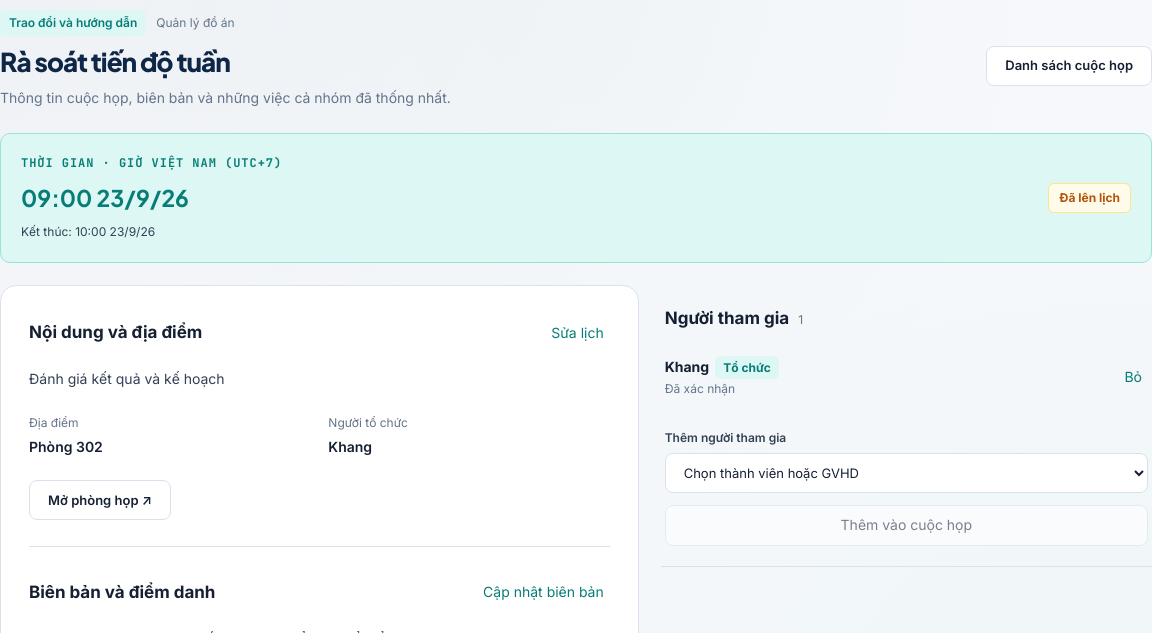
Test: Meetings end-user workflow › protects unsaved content on route changes and allows explicit discard
The width and height of the screenshot is (1152, 633).
Step 1. Click the button "Cập nhật biên bản" → {"x": 543, "y": 592}, box [477,573,610,612]
(page scrolled)
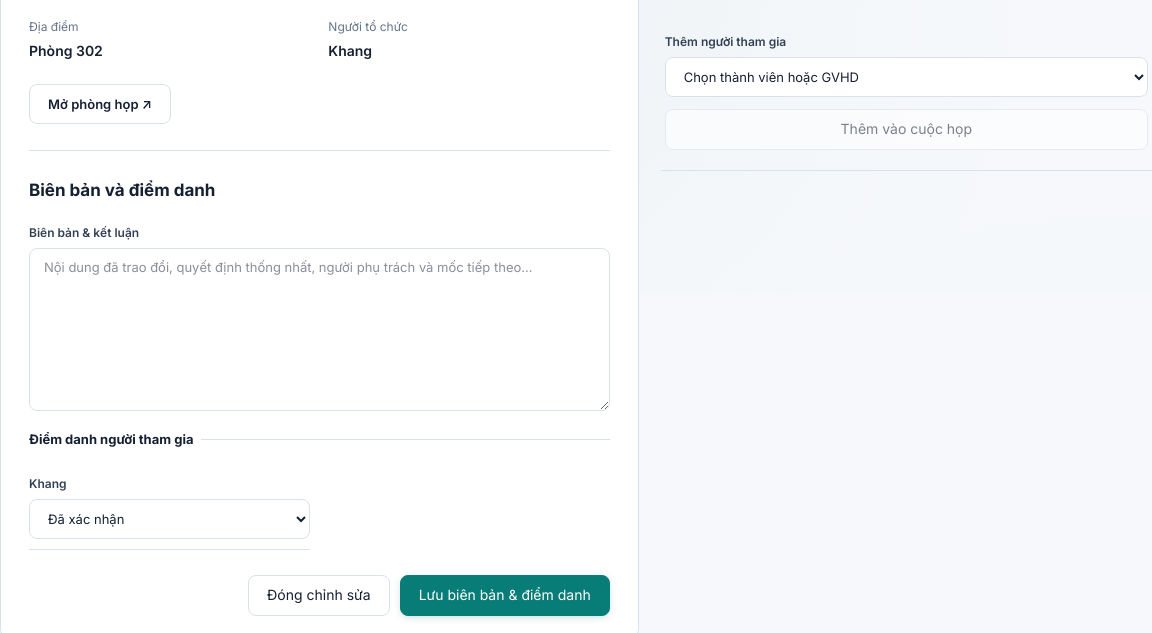
Step 2. Replace the text in the text box labelled "Biên bản & kết luận" with "Chưa lưu" → {"x": 319, "y": 330}, box [29,248,610,411]
(page scrolled)
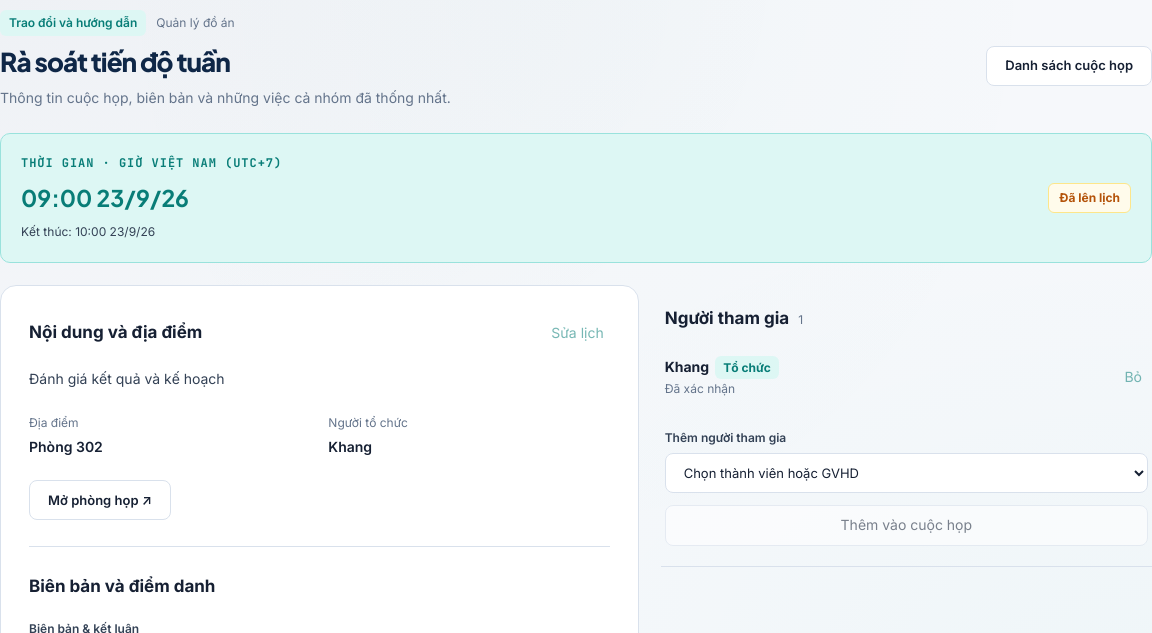
Step 3. Click the link "Danh sách cuộc họp" → {"x": 1069, "y": 66}, box [986,46,1151,86]
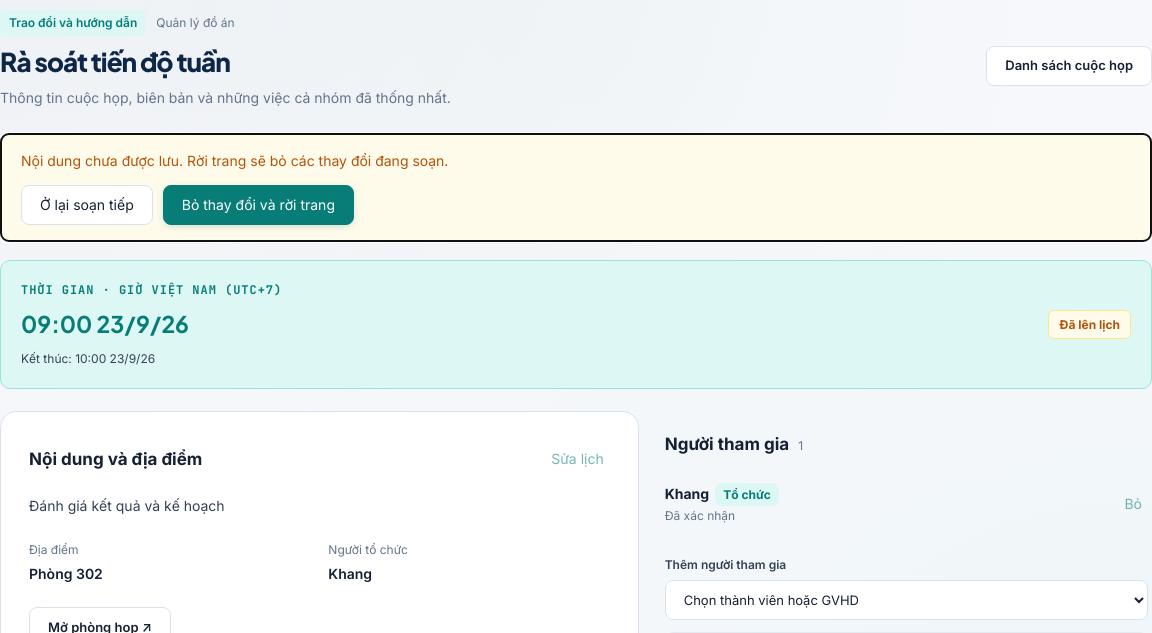
Now the text "Nội dung chưa được lưu" is shown, box [21,152,448,169]
Step 4. Click the button "Ở lại soạn tiếp" → {"x": 87, "y": 205}, box [21,185,153,225]
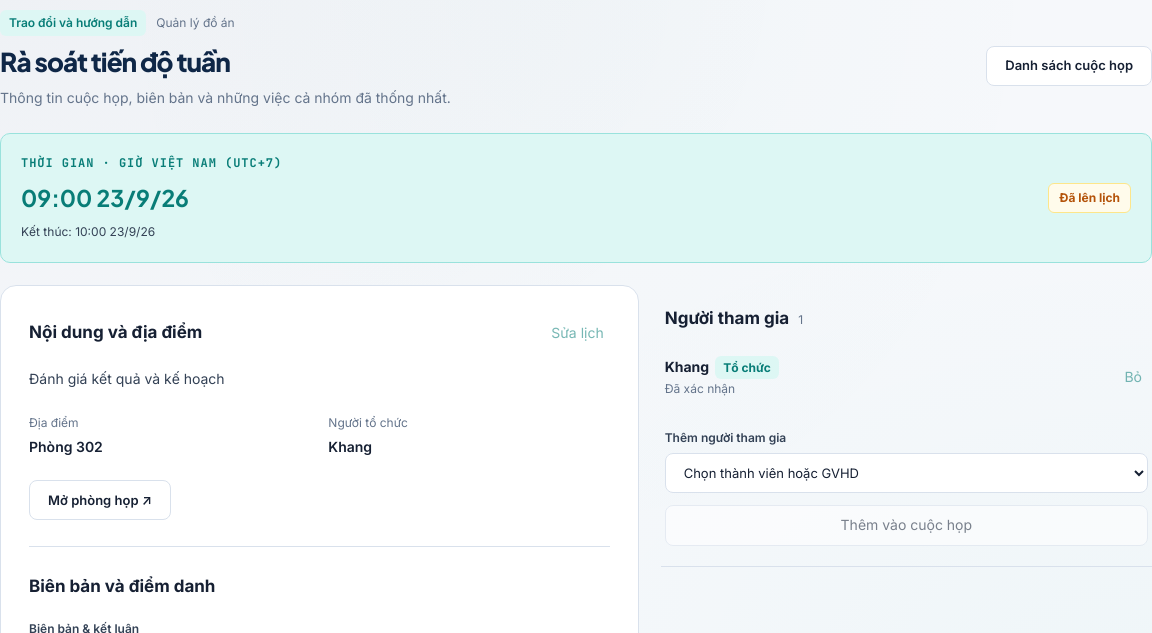
Step 5. Click the link "Danh sách cuộc họp" → {"x": 1069, "y": 66}, box [986,46,1151,86]
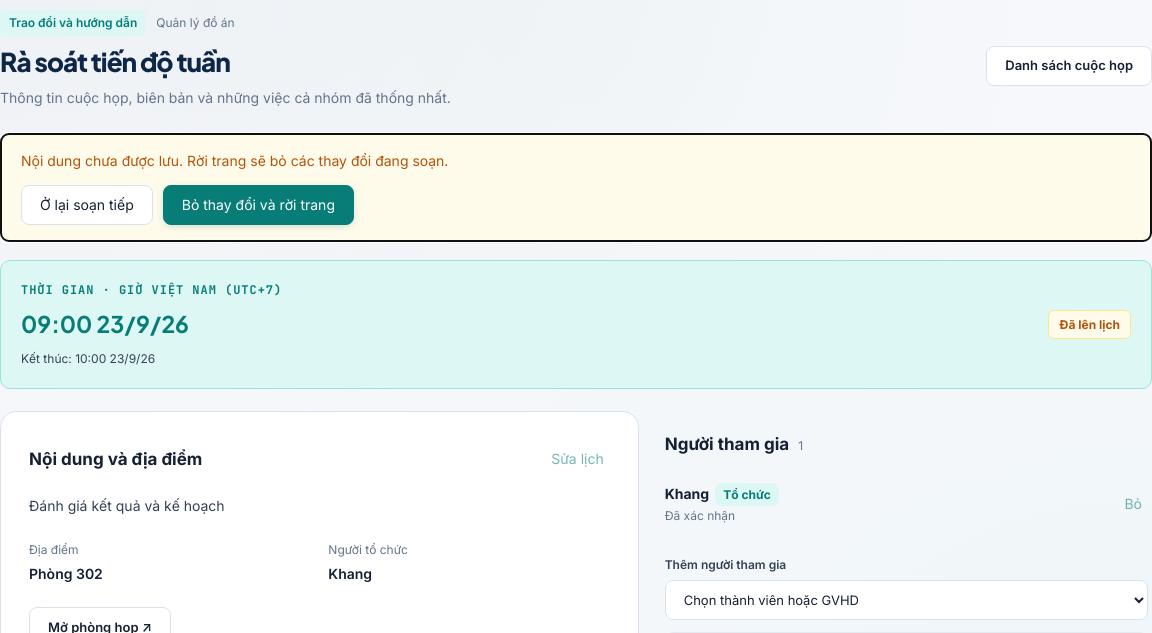
Step 6. Click the button "Bỏ thay đổi và rời trang" → {"x": 258, "y": 205}, box [163,185,354,225]
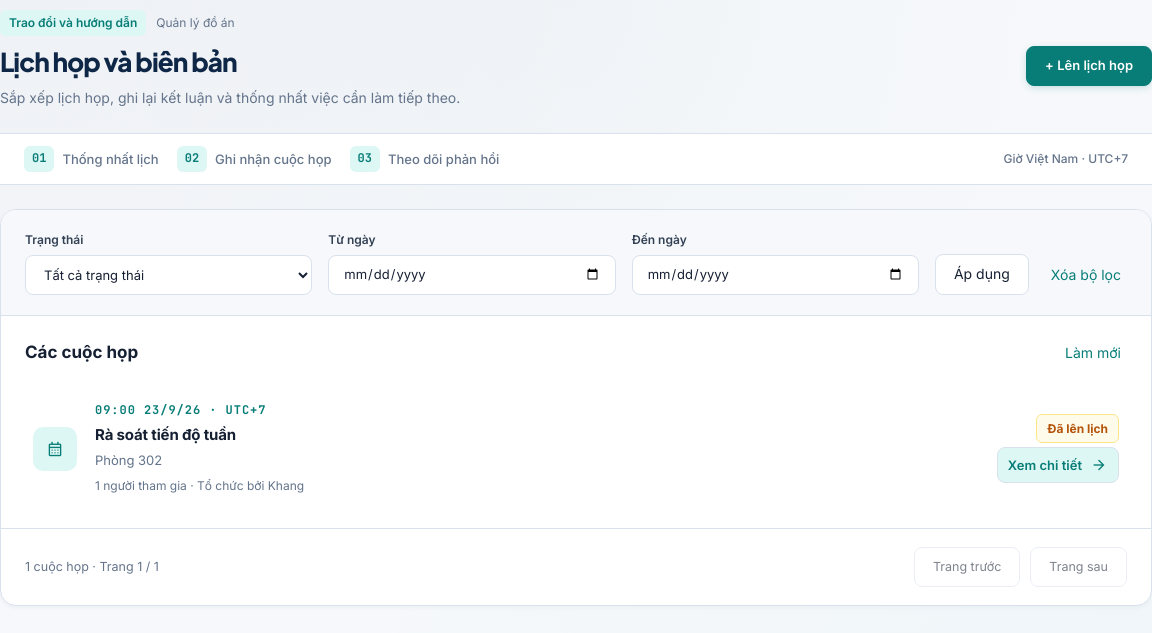
Now the heading "Các cuộc họp" is shown, box [25,339,138,367]
